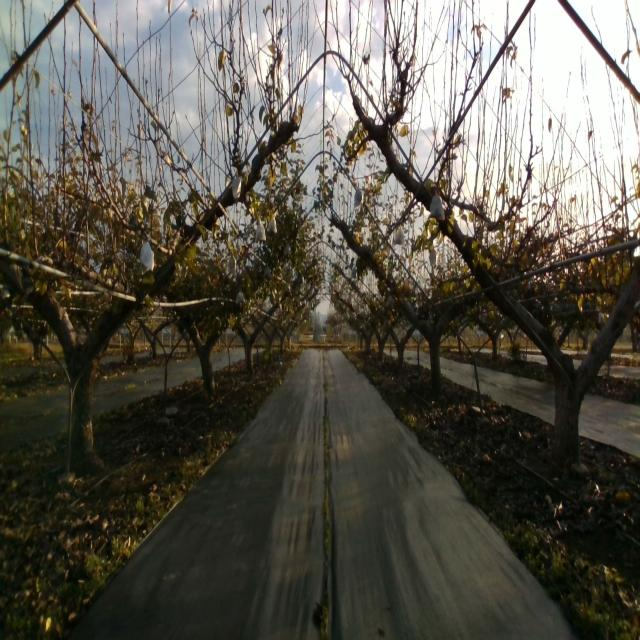pearbags: (426, 189, 446, 221), (140, 235, 154, 276), (232, 170, 242, 199), (255, 216, 266, 242)
